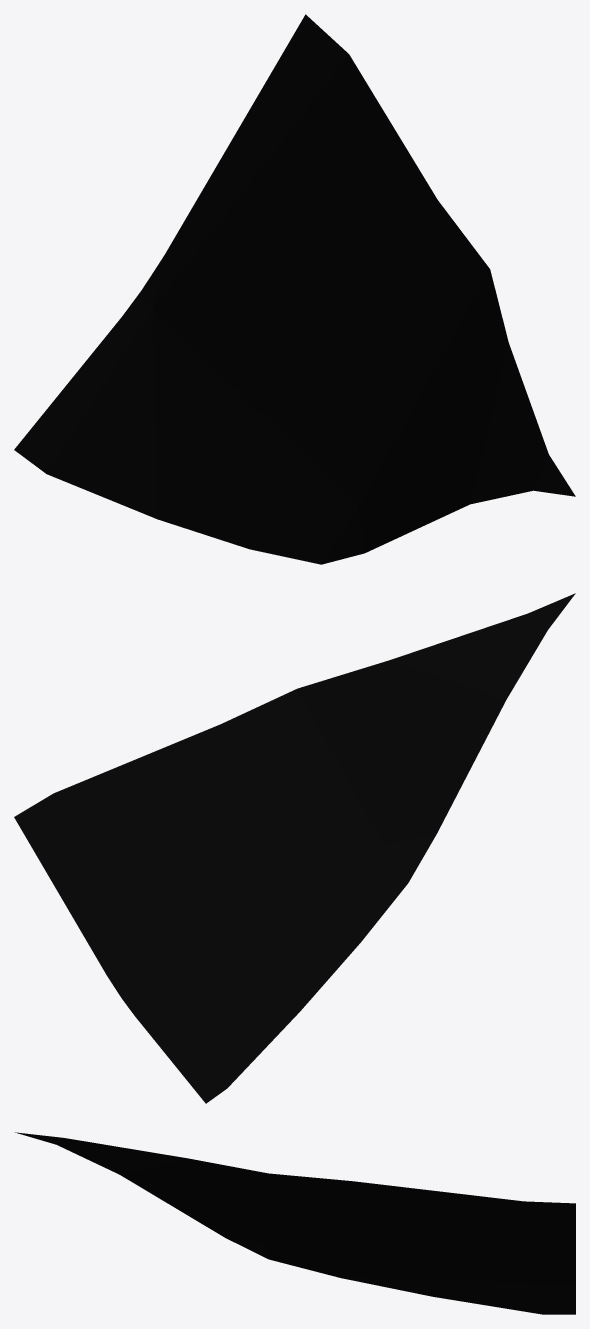
The picture shows the model from 3 angles, top to bottom: view 1: azimuth 30°, elevation 25°; view 2: azimuth 150°, elevation 25°; view 3: azimuth 270°, elevation 25°; orthographic projection. The views are drawn at different scales.
Size of the model in its own units: 3.02 by 3.61 by 10.09.
1 material, 1 textured.
